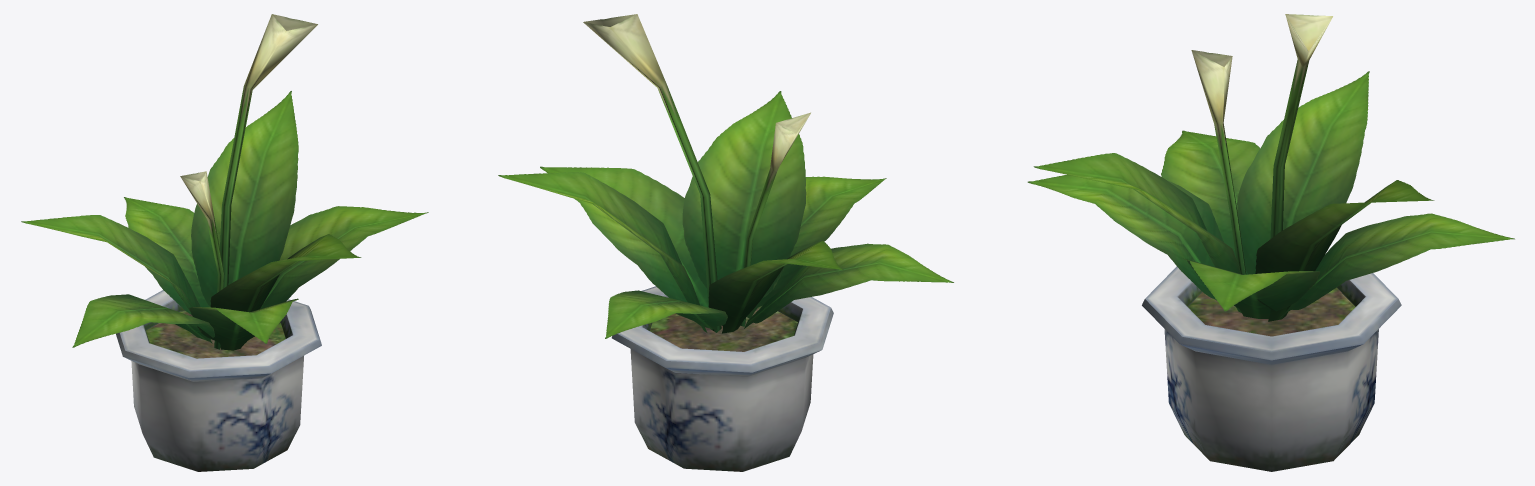
File: wm_灌木盆栽09.fbx
3 views of the same model, side by side, from view 1: azimuth 30°, elevation 25°; view 2: azimuth 150°, elevation 25°; view 3: azimuth 270°, elevation 25° (orthographic). The views are drawn at different scales.
Visible parts, largest first — view 1: wm_灌木盆栽09; view 2: wm_灌木盆栽09; view 3: wm_灌木盆栽09.
Part boxes in pixels (x1,y1,x2,y2): wm_灌木盆栽09: (21,14,428,471); wm_灌木盆栽09: (498,14,953,471); wm_灌木盆栽09: (1027,14,1514,471).
Bounding box in the file's own units: 133 × 121 × 123.
